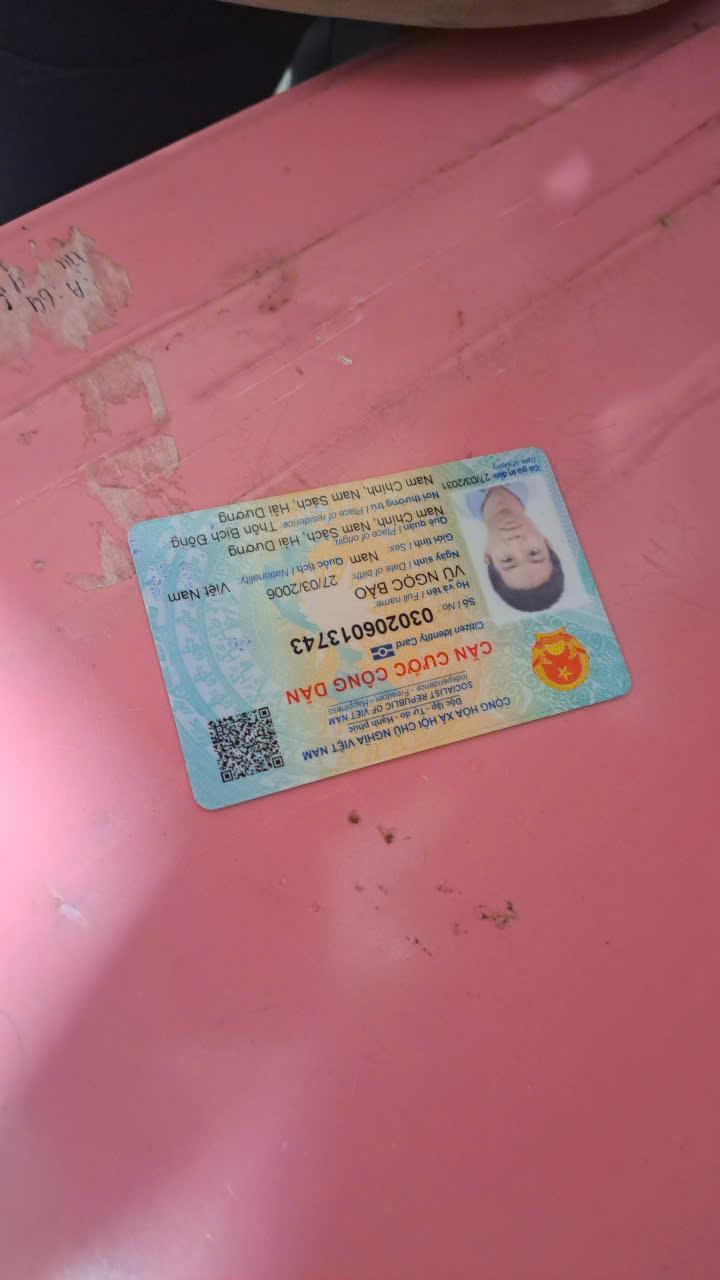cccd: (112, 433, 648, 830)
